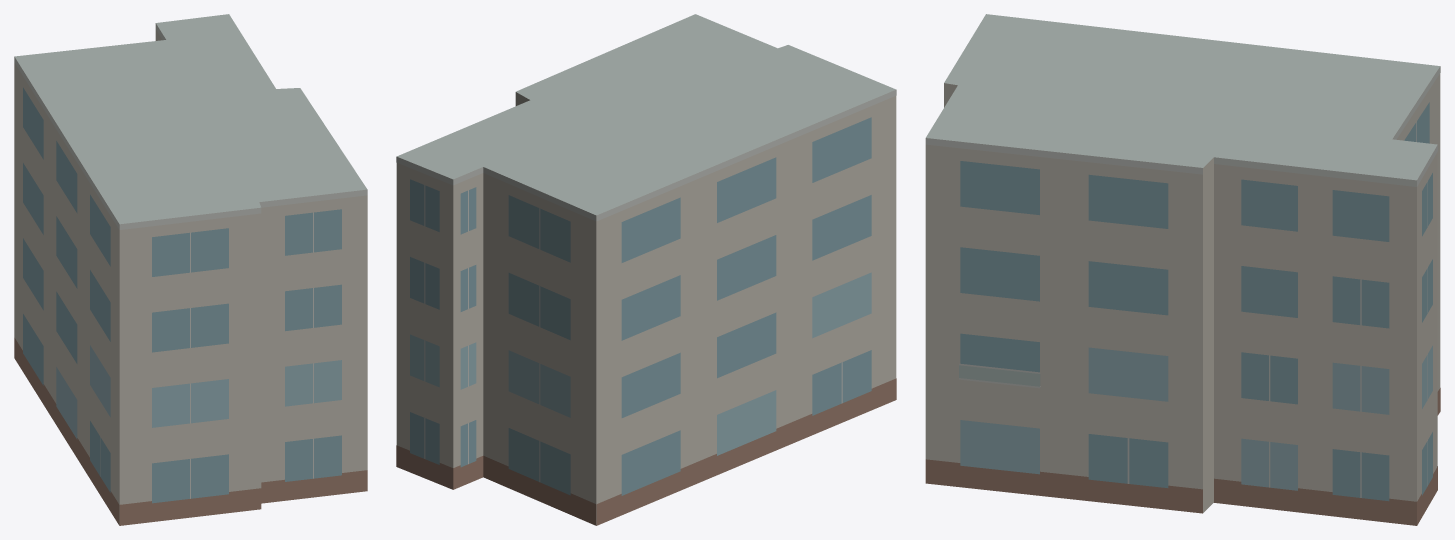
Rendered from survey-upis-32959115.glb.
3 renders of one model, left to right at view 1: azimuth 30°, elevation 25°; view 2: azimuth 150°, elevation 25°; view 3: azimuth 270°, elevation 25°, orthographic. The views are drawn at different scales.
Visible parts, largest first — view 1: survey-upis-32959115.tmp; view 2: survey-upis-32959115.tmp; view 3: survey-upis-32959115.tmp.
Part boxes in pixels (x1,y1,x2,y2): survey-upis-32959115.tmp: [14, 14, 367, 525]; survey-upis-32959115.tmp: [396, 14, 896, 525]; survey-upis-32959115.tmp: [925, 14, 1440, 525].
Bounding box in the file's own units: 13.02 × 12.6 × 17.03.
